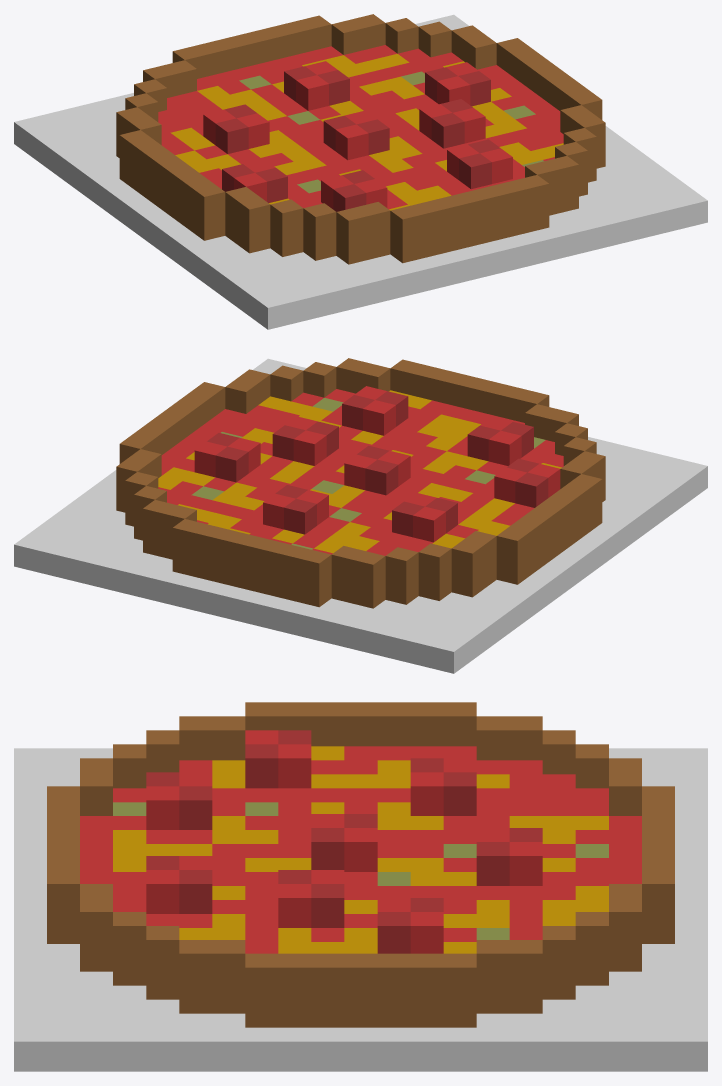
The model's file is PizzaPlate.dae.
3 views of the same model, one above another, from view 1: azimuth 30°, elevation 25°; view 2: azimuth 150°, elevation 25°; view 3: azimuth 270°, elevation 25° (orthographic). The views are drawn at different scales.
Parts seen in each view (by area): view 1: PizzaPlate; view 2: PizzaPlate; view 3: PizzaPlate.
Boxes of the visible parts, x1=… form: PizzaPlate: x1=14, y1=14, x2=707, y2=329; PizzaPlate: x1=14, y1=358, x2=707, y2=673; PizzaPlate: x1=14, y1=702, x2=707, y2=1071.
Size of the model in its own units: 21 by 21 by 3.
Materials: 1 (1 with a texture image).
